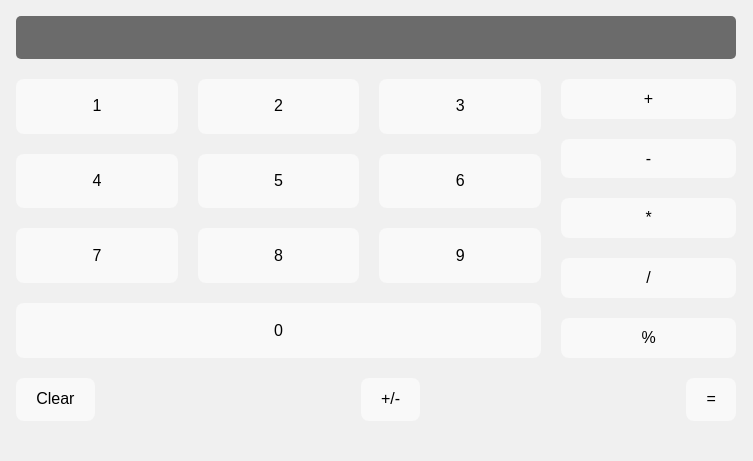
Test: Calculator component › displays number when a button is clicked
Click the button "1".
click(97, 106)  # box [16,79,178,134]
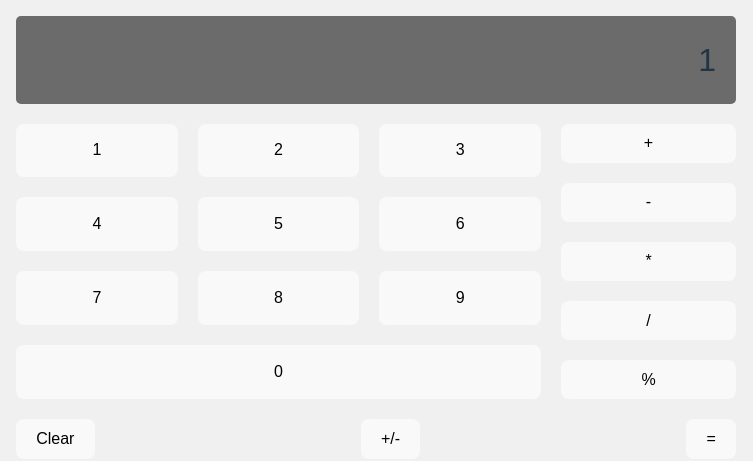
Check: the text with test id "result" reads "1", box [698,42,716,78]
